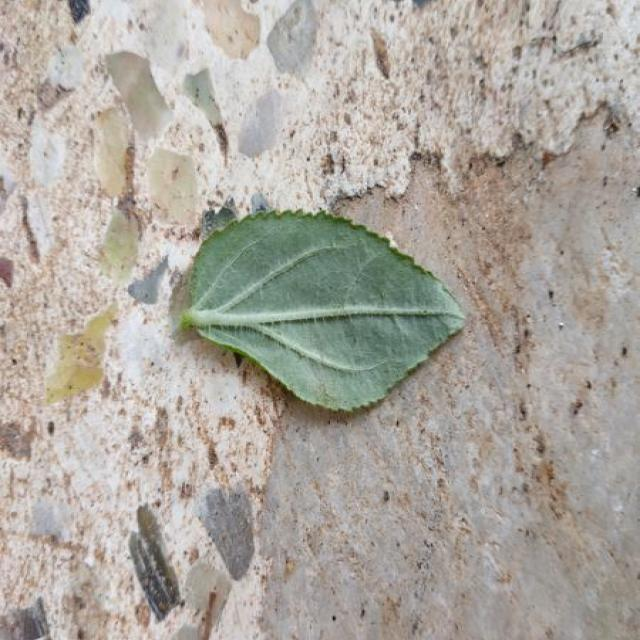Astma_weed: (183, 211, 463, 409)
